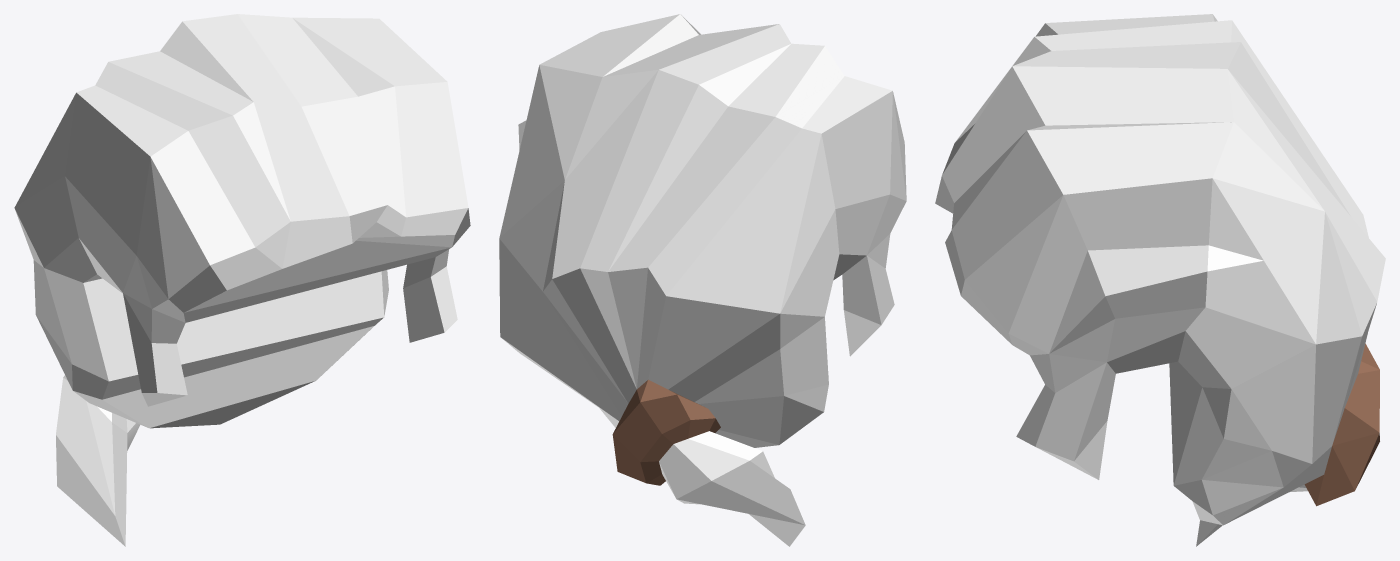
The model's file is SM_Chr_Attach_Hair_M_03.fbx.
The picture shows the model from 3 angles, left to right: view 1: azimuth 30°, elevation 25°; view 2: azimuth 150°, elevation 25°; view 3: azimuth 270°, elevation 25°; orthographic projection. The views are drawn at different scales.
Visible parts, largest first — view 1: SM_Chr_Attach_Hair_M_03; view 2: SM_Chr_Attach_Hair_M_03; view 3: SM_Chr_Attach_Hair_M_03.
Part boxes in pixels (<box>): SM_Chr_Attach_Hair_M_03: <box>14,14,470,546</box>; SM_Chr_Attach_Hair_M_03: <box>499,14,906,546</box>; SM_Chr_Attach_Hair_M_03: <box>935,14,1385,546</box>.
Bounding box in the file's own units: 26.29 × 35.77 × 26.73.
